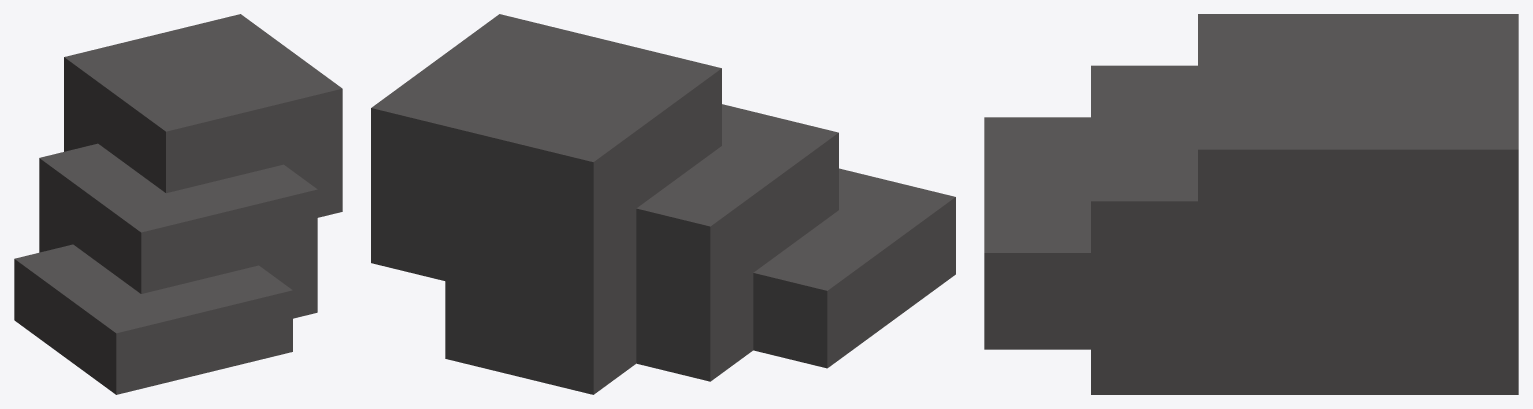
File: seal__fin_r.glb
The picture shows the model from 3 angles, left to right: view 1: azimuth 30°, elevation 25°; view 2: azimuth 150°, elevation 25°; view 3: azimuth 270°, elevation 25°; orthographic projection. The views are drawn at different scales.
Visible parts, largest first — view 1: seal__fin_r; view 2: seal__fin_r; view 3: seal__fin_r.
Part boxes in pixels (x1,y1,x2,y2): seal__fin_r: (14, 14, 342, 394); seal__fin_r: (371, 14, 955, 394); seal__fin_r: (984, 14, 1518, 394).
Bounding box in the file's own units: 0.5 × 0.3 × 0.5.
Materials: 1 (1 with a texture image).
